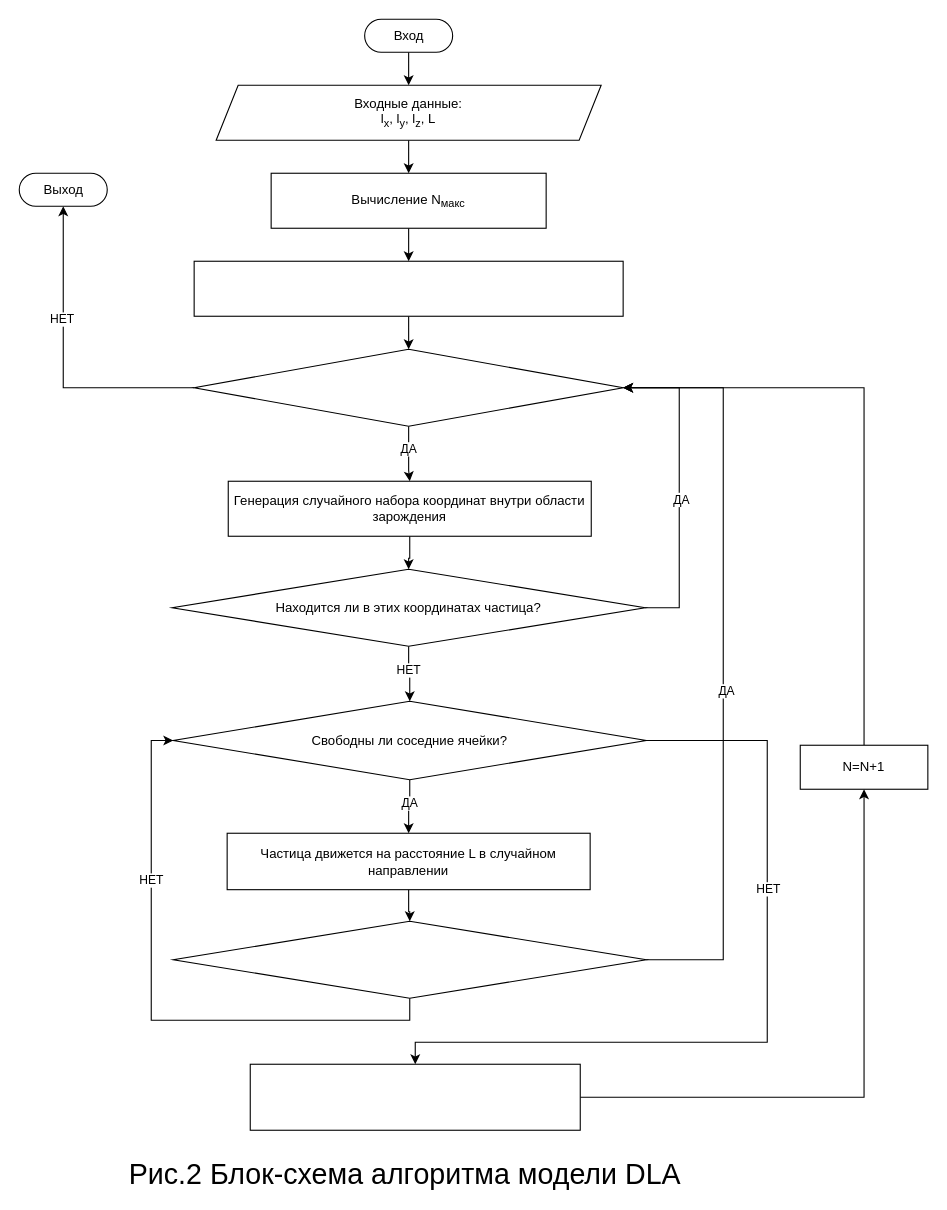
Image size: 947x1210. Some labels were removed from this diagram. The shapes that lost their labels are listed below. From the top down, each one's centre as x and y in pixels, then its label:
At point 408,288: "Количество частиц устанавливается равным 1: N=1".
At point 408,387: "N < Nмакс".
At point 409,959: "Вышла ли частица за пределы радиуса уничтожения".
At point 414,1096: "Добавление частицы в ячейку со сгенерированным набором координат".
